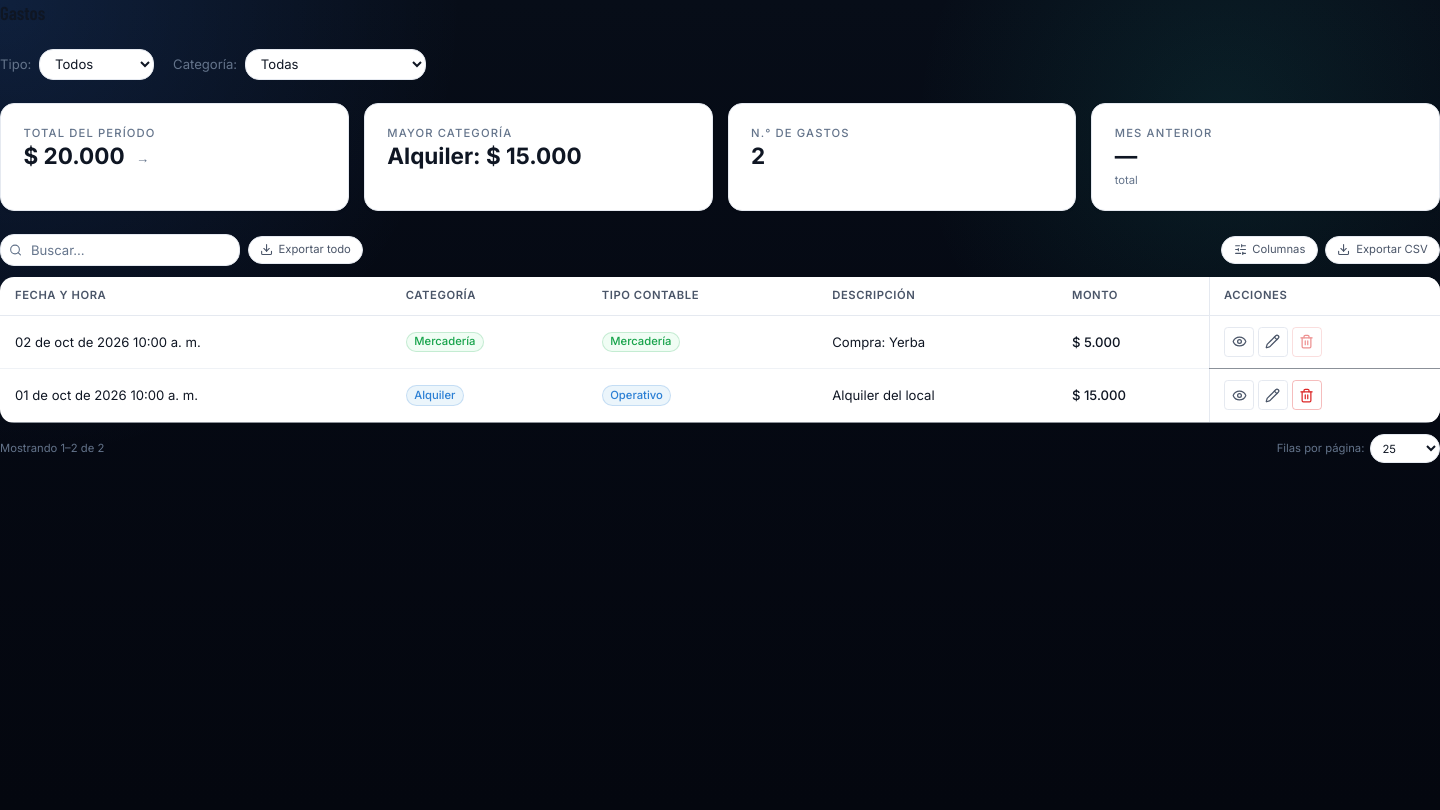
it: el editor de un gasto común no cambia
The width and height of the screenshot is (1440, 810).
What coordinates should you click on to do the following:
click the button named "Editar gasto" in the row of "01 de oct de 2026 10:00 a. m."
I would click on:
 (1273, 395)
Its box is [1258,380,1288,410].
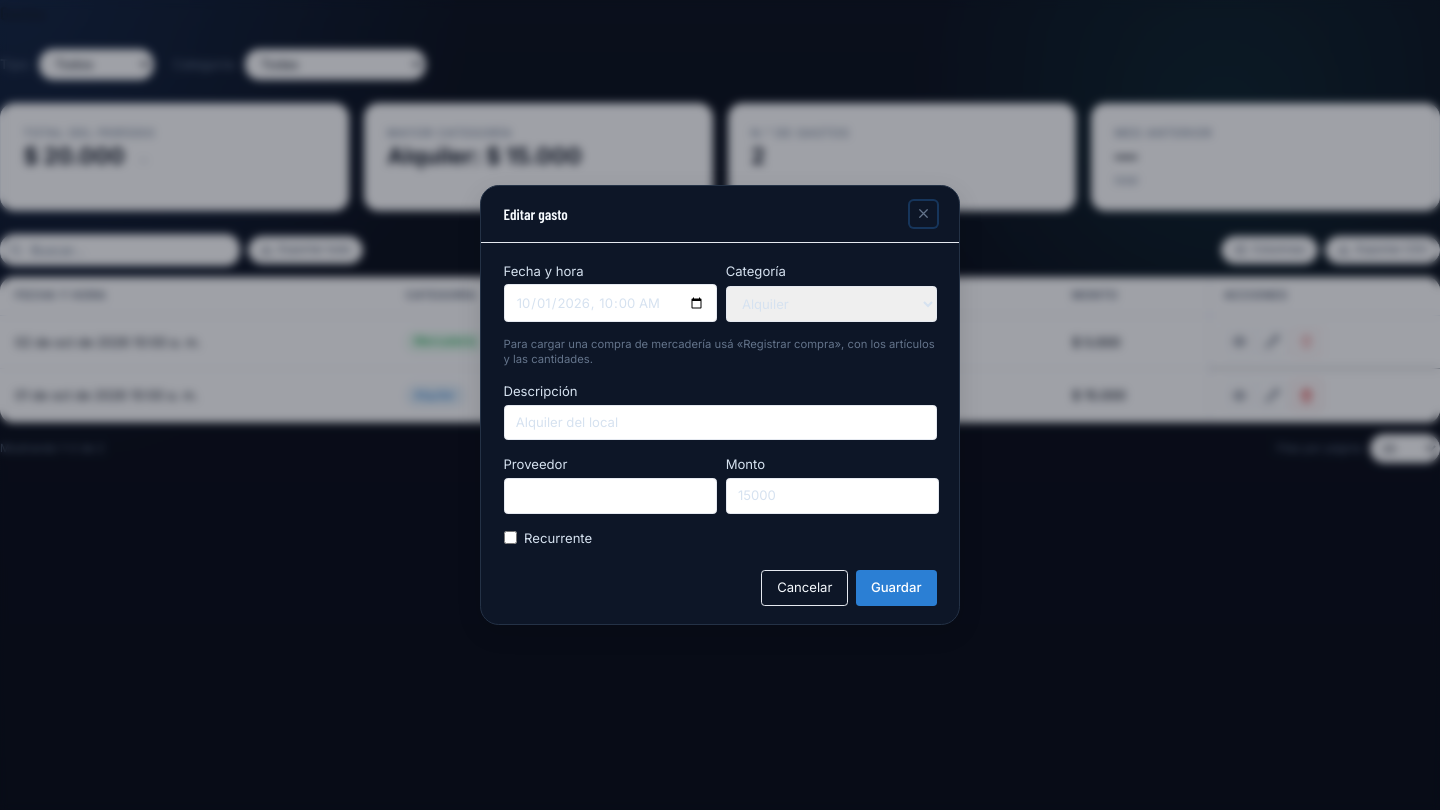
Now the number field labelled "Monto" is enabled, box [726,478,939,514]
Now the dropdown labelled "Categoría" is enabled, box [726,286,936,322]
Now the field labelled "Fecha y hora" is enabled, box [504,284,717,322]
